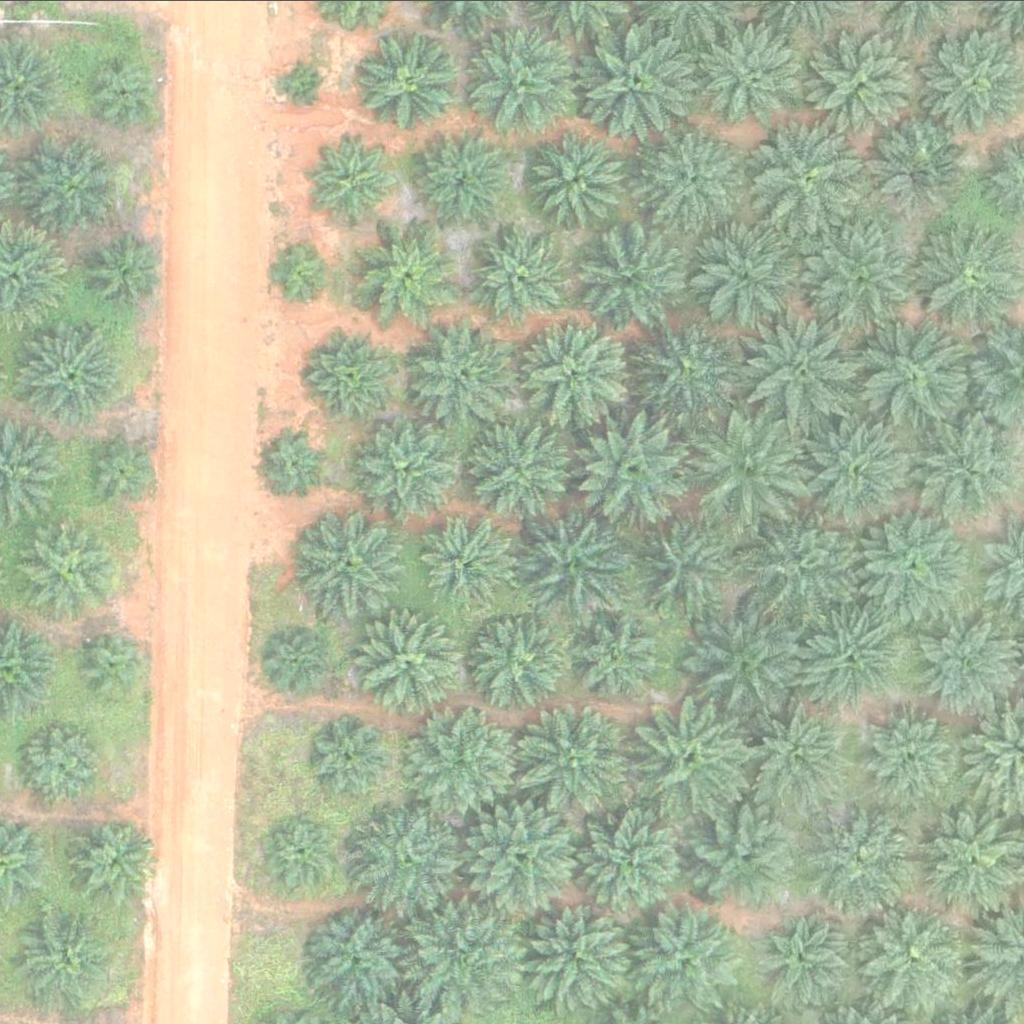Kelapa_Sawit: (406, 889, 532, 1014), (571, 795, 697, 920), (513, 694, 639, 819), (628, 695, 754, 820), (684, 599, 810, 724), (504, 503, 630, 628), (623, 504, 749, 629), (739, 504, 865, 629), (573, 403, 699, 528), (691, 405, 817, 530), (739, 308, 865, 433), (577, 20, 703, 145), (853, 312, 979, 437), (793, 405, 919, 530), (850, 502, 976, 627), (516, 307, 641, 432), (747, 117, 872, 242), (796, 210, 921, 335), (524, 895, 638, 1008), (809, 803, 923, 916), (629, 897, 742, 1010), (747, 904, 860, 1017), (695, 803, 808, 916), (406, 703, 519, 816), (462, 801, 576, 913), (741, 696, 855, 808), (347, 806, 460, 918), (460, 24, 573, 136), (696, 21, 809, 133), (858, 899, 971, 1011), (21, 135, 122, 235), (19, 322, 120, 422), (18, 518, 119, 618), (356, 611, 457, 711), (471, 612, 572, 712), (297, 509, 398, 609), (418, 515, 519, 615), (354, 418, 455, 518), (466, 418, 567, 518), (411, 323, 512, 423), (638, 315, 739, 415), (358, 221, 459, 321), (473, 226, 574, 326), (587, 225, 688, 325), (691, 221, 792, 321), (410, 129, 511, 229), (526, 127, 627, 227), (642, 130, 743, 230), (814, 33, 915, 133), (865, 121, 966, 221), (917, 412, 1018, 512), (62, 811, 162, 911), (12, 905, 112, 1005), (310, 910, 410, 1010), (567, 605, 667, 705), (355, 29, 455, 129), (798, 606, 898, 706), (919, 615, 1019, 715), (865, 708, 965, 808), (18, 718, 106, 806), (310, 136, 398, 224), (307, 325, 395, 412), (268, 814, 344, 889), (85, 51, 161, 126), (77, 625, 153, 700), (312, 717, 387, 792), (91, 233, 166, 308), (85, 429, 160, 504), (266, 628, 329, 691), (264, 429, 327, 491), (265, 243, 328, 305), (285, 61, 323, 98)
